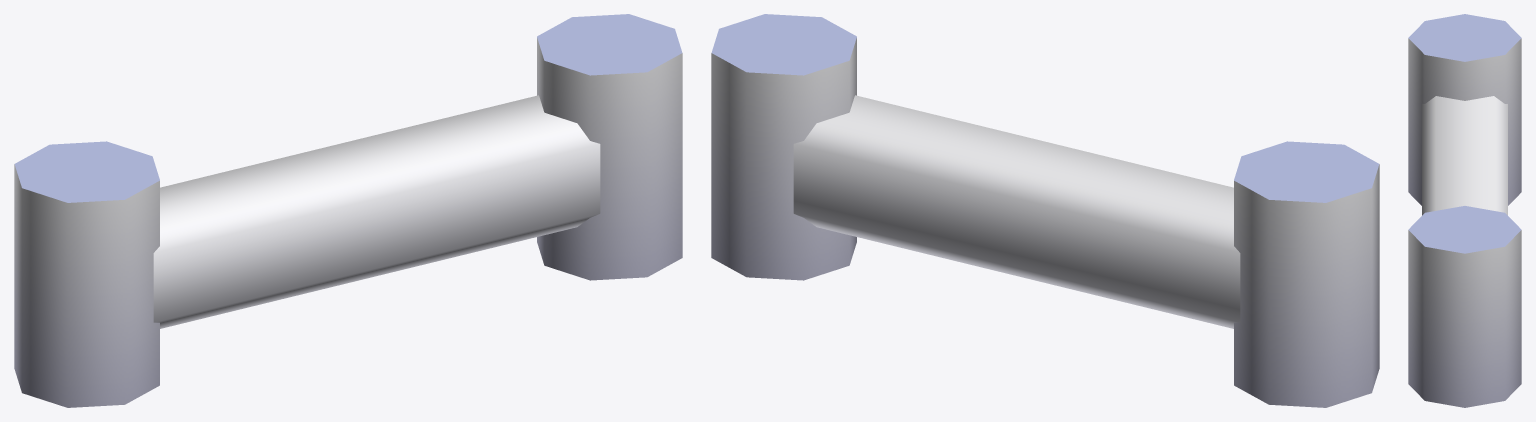
The model's file is fence-low-straight.glb.
The picture shows the model from 3 angles, left to right: view 1: azimuth 30°, elevation 25°; view 2: azimuth 150°, elevation 25°; view 3: azimuth 270°, elevation 25°; orthographic projection. The views are drawn at different scales.
Parts seen in each view (by area): view 1: fence-low-straight; view 2: fence-low-straight; view 3: fence-low-straight.
Part boxes in pixels (x1=…): fence-low-straight: x1=14, y1=14, x2=682, y2=407; fence-low-straight: x1=711, y1=14, x2=1379, y2=407; fence-low-straight: x1=1408, y1=14, x2=1521, y2=407.
Bounding box in the file's own units: 1 × 0.3 × 0.2.
